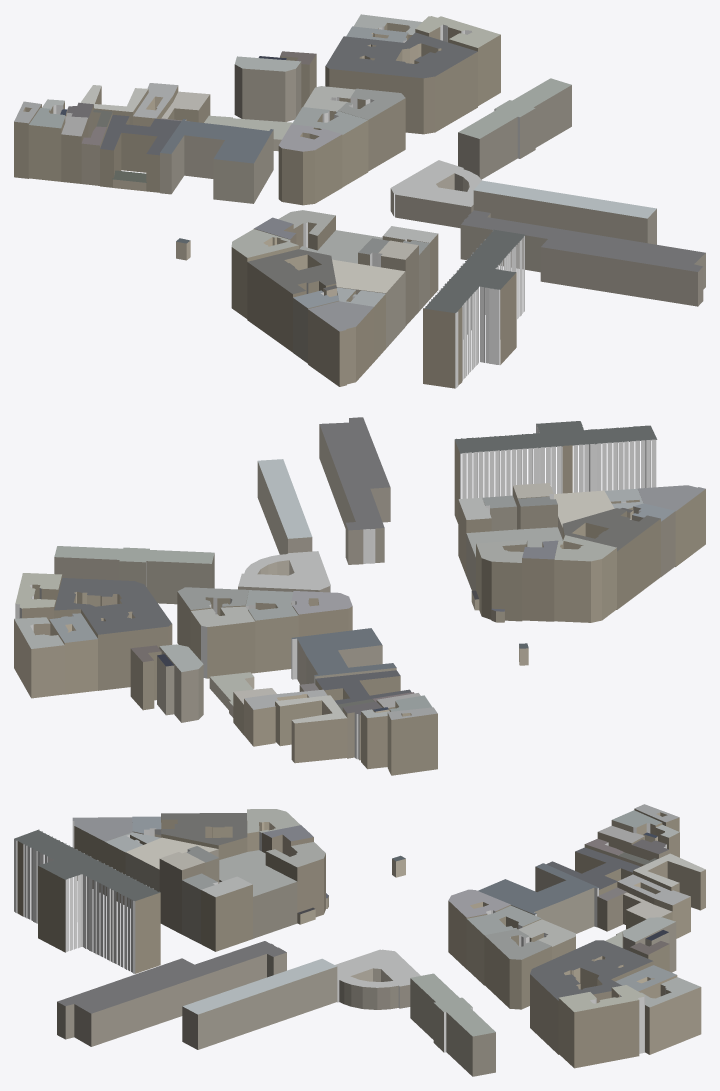
3 views of the same model, one above another, from view 1: azimuth 30°, elevation 25°; view 2: azimuth 150°, elevation 25°; view 3: azimuth 270°, elevation 25° (orthographic). The views are drawn at different scales.
Parts seen in each view (by area): view 1: tuile; view 2: tuile; view 3: tuile.
Boxes of the visible parts, bbox=[...] form: tuile: bbox=[14, 14, 705, 388]; tuile: bbox=[14, 417, 705, 775]; tuile: bbox=[14, 804, 705, 1076].
Size of the model in its own units: 219 by 34.03 by 290.
